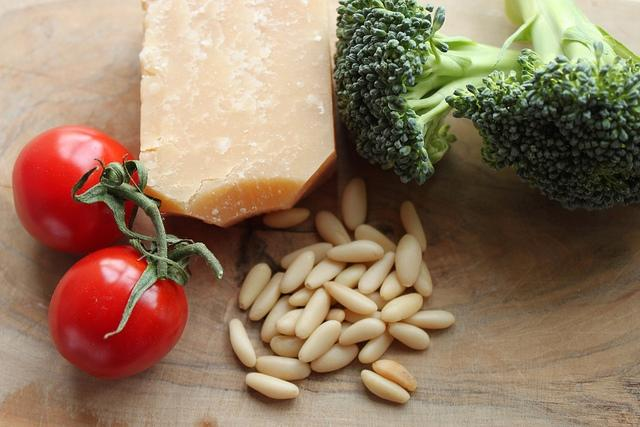broccoli: (444, 0, 640, 211), (332, 0, 520, 186)
tomato: (48, 245, 188, 380), (12, 125, 135, 255)
